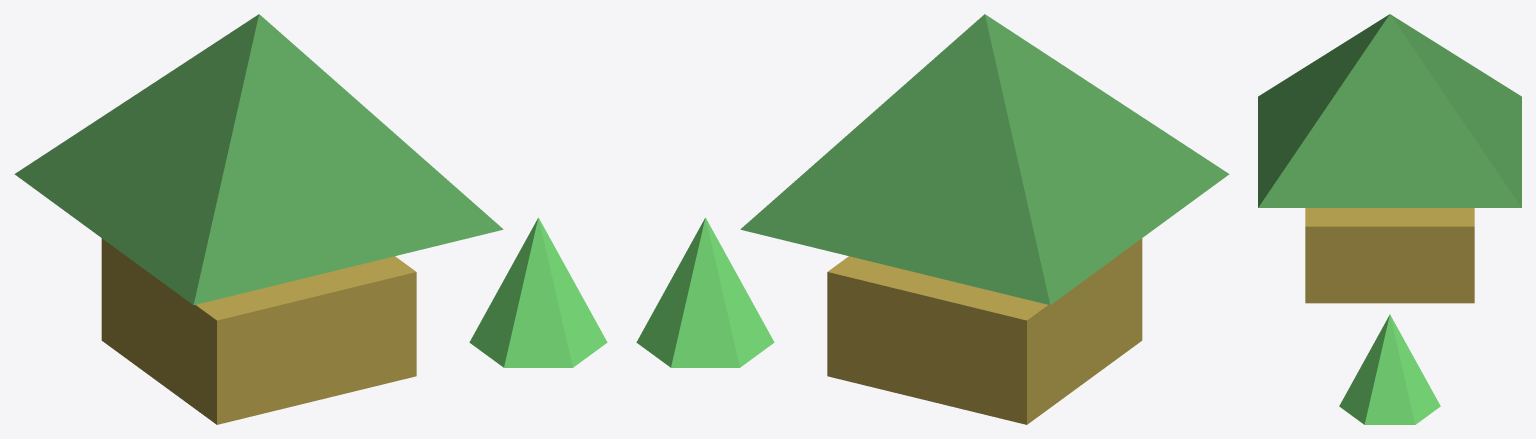
Rendered from forester_hut.glb.
3 views of the same model, side by side, from view 1: azimuth 30°, elevation 25°; view 2: azimuth 150°, elevation 25°; view 3: azimuth 270°, elevation 25° (orthographic). The views are drawn at different scales.
Parts seen in each view (by area): view 1: ForesterHut; view 2: ForesterHut; view 3: ForesterHut.
Part boxes in pixels (bbox=[...]): ForesterHut: bbox=[14, 14, 607, 424]; ForesterHut: bbox=[636, 14, 1229, 424]; ForesterHut: bbox=[1258, 14, 1521, 424].
Size of the model in its own units: 0.4875 by 0.38 by 0.3111.
